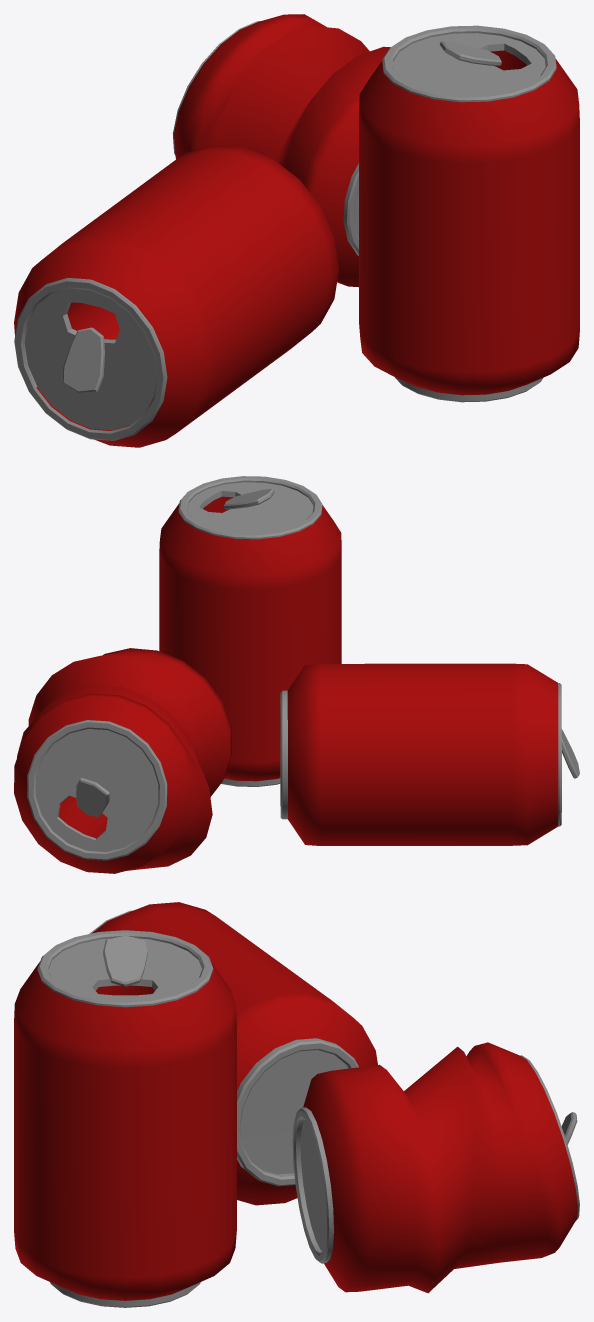
File: Cans.fbx
The picture shows the model from 3 angles, top to bottom: view 1: azimuth 30°, elevation 25°; view 2: azimuth 150°, elevation 25°; view 3: azimuth 270°, elevation 25°; orthographic projection. The views are drawn at different scales.
Visible parts, largest first — view 1: pasted__pasted__pasted__pCylinder5; view 2: pasted__pasted__pasted__pCylinder5; view 3: pasted__pasted__pasted__pCylinder5.
Part boxes in pixels (x1,y1,x2,y2): pasted__pasted__pasted__pCylinder5: (14,14,579,447); pasted__pasted__pasted__pCylinder5: (14,476,579,873); pasted__pasted__pasted__pCylinder5: (14,902,579,1307).
Bounding box in the file's own units: 0.8373 × 0.4886 × 0.7608.
